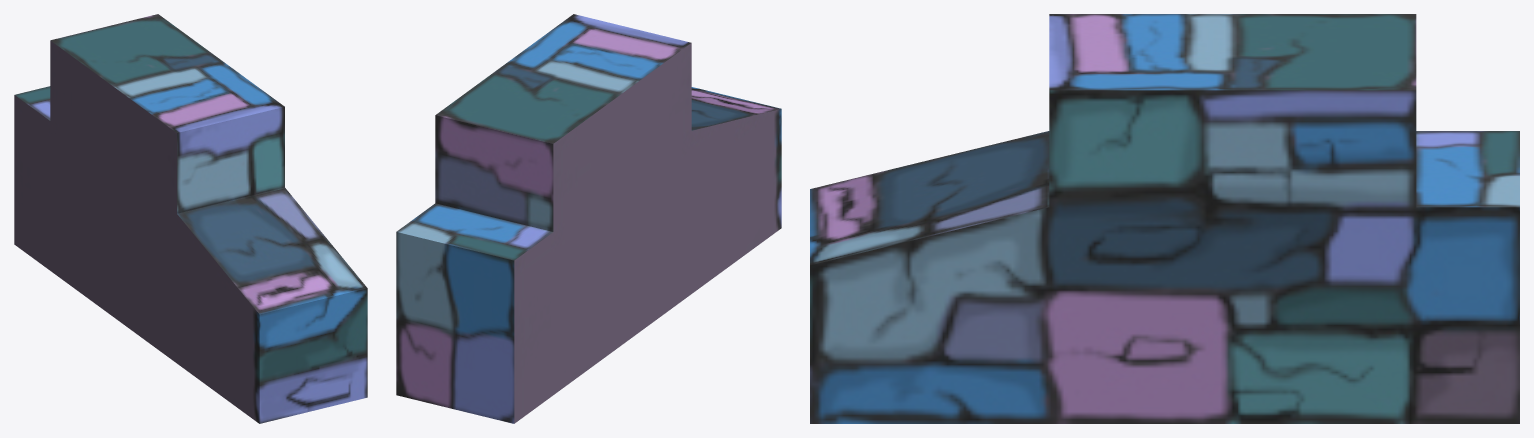
Rendered from Wall.fbx.
The picture shows the model from 3 angles, left to right: view 1: azimuth 30°, elevation 25°; view 2: azimuth 150°, elevation 25°; view 3: azimuth 270°, elevation 25°; orthographic projection. The views are drawn at different scales.
Visible parts, largest first — view 1: pCube1; view 2: pCube1; view 3: pCube1.
Boxes of the visible parts, x1,y1,x2,y2 form: pCube1: [14, 14, 367, 423]; pCube1: [396, 14, 781, 423]; pCube1: [810, 14, 1519, 423].
Bounding box in the file's own units: 0.7553 × 1.54 × 2.97.
Materials: 1 (1 with a texture image).
